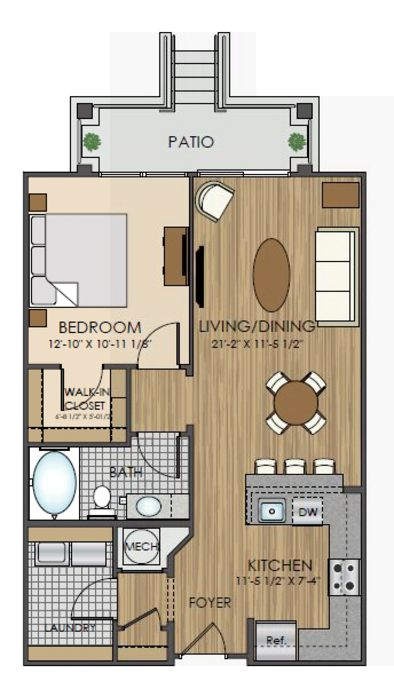door: (56, 371, 109, 415), (62, 575, 111, 622), (135, 439, 184, 481), (132, 321, 184, 360)
room: (23, 172, 193, 369), (189, 487, 367, 665), (23, 442, 193, 526)
window: (196, 169, 290, 177), (97, 172, 187, 178)
